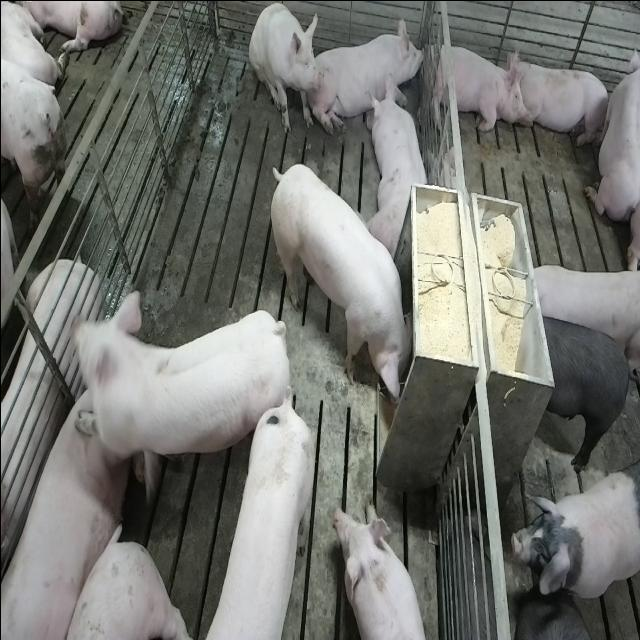Feeding: (272, 160, 420, 410)
Sitting: (248, 3, 322, 137)
Standing: (66, 296, 292, 514), (209, 392, 321, 640), (509, 464, 637, 600), (532, 309, 630, 470), (524, 266, 638, 360)
Sternal_lying: (314, 10, 426, 136), (336, 502, 436, 640), (368, 80, 431, 260), (584, 36, 638, 230), (510, 52, 610, 148), (425, 36, 522, 134)
